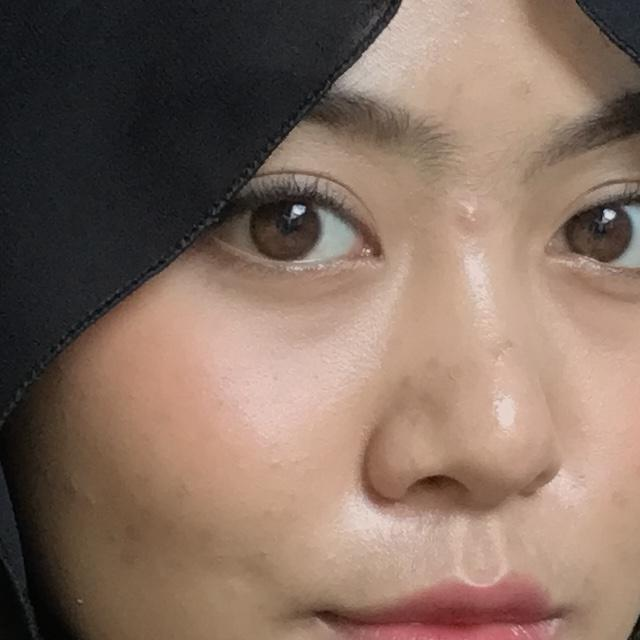mendengar: (0, 16, 350, 640)
